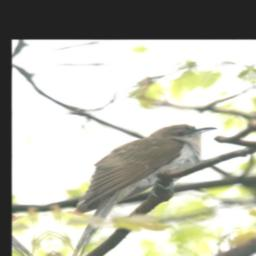Cuckoo: (42, 121, 243, 256)
